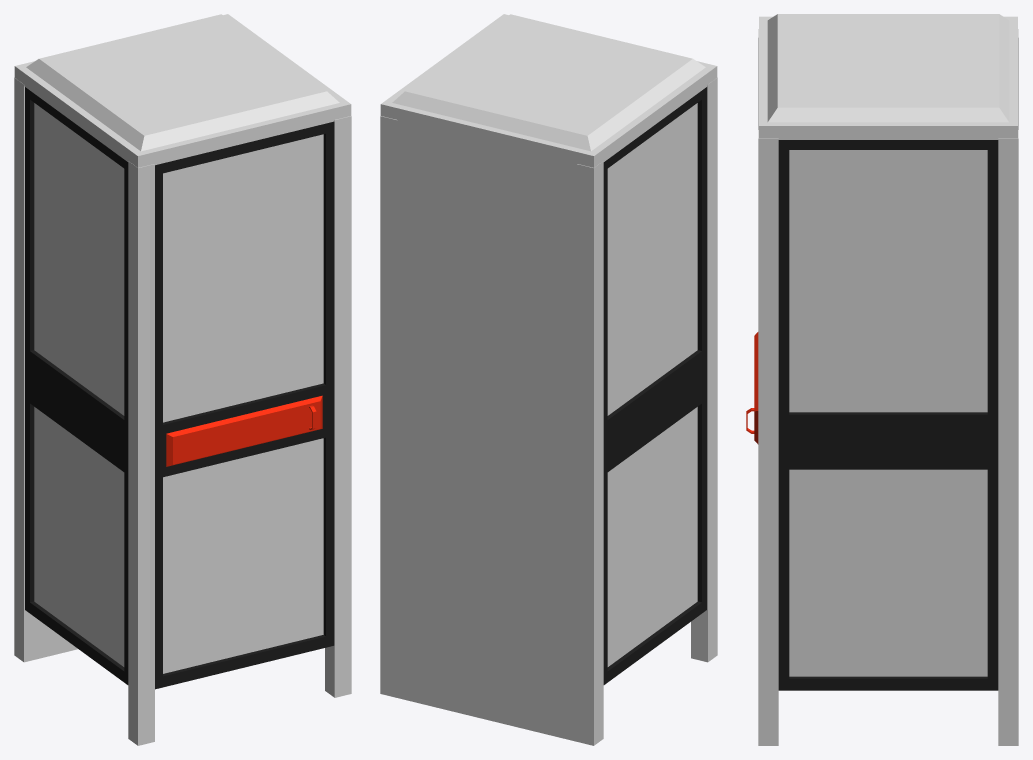
File: PhoneBooth.fbx
3 renders of one model, left to right at view 1: azimuth 30°, elevation 25°; view 2: azimuth 150°, elevation 25°; view 3: azimuth 270°, elevation 25°, orthographic. The views are drawn at different scales.
Visible parts, largest first — view 1: Cube.002, Cube.003, Cube, Cube.004; view 2: Cube, Cube.003, Cube.004; view 3: Cube.003, Cube.004, Cube, Cube.002.
Part boxes in pixels (x1,y1,x2,y2): Cube.002: (155, 121, 334, 689); Cube.003: (25, 87, 128, 684); Cube: (14, 77, 351, 745); Cube.004: (14, 14, 351, 167); Cube: (380, 77, 717, 745); Cube.003: (603, 87, 706, 684); Cube.004: (380, 14, 717, 167); Cube.003: (778, 140, 998, 690); Cube.004: (759, 14, 1017, 139); Cube: (758, 29, 1018, 745); Cube.002: (746, 332, 758, 444).
Bounding box in the file's own units: 0.8666 × 2.32 × 0.9105.
